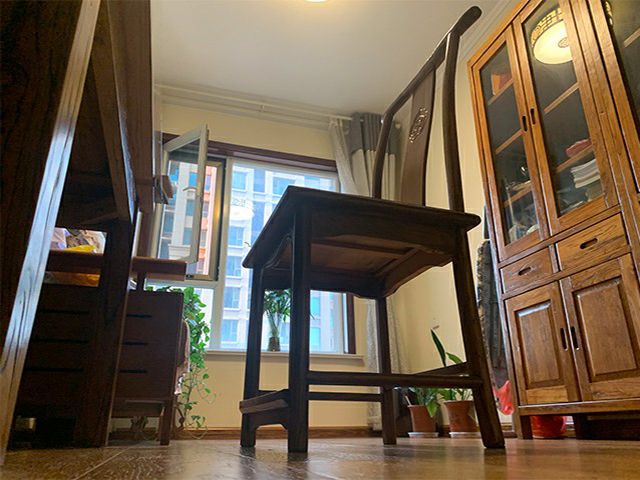cabinet: (485, 194, 640, 442)
curtain: (328, 111, 413, 432)
sofa: (16, 224, 191, 445)
stool: (238, 3, 499, 456)
table: (1, 1, 169, 466)
